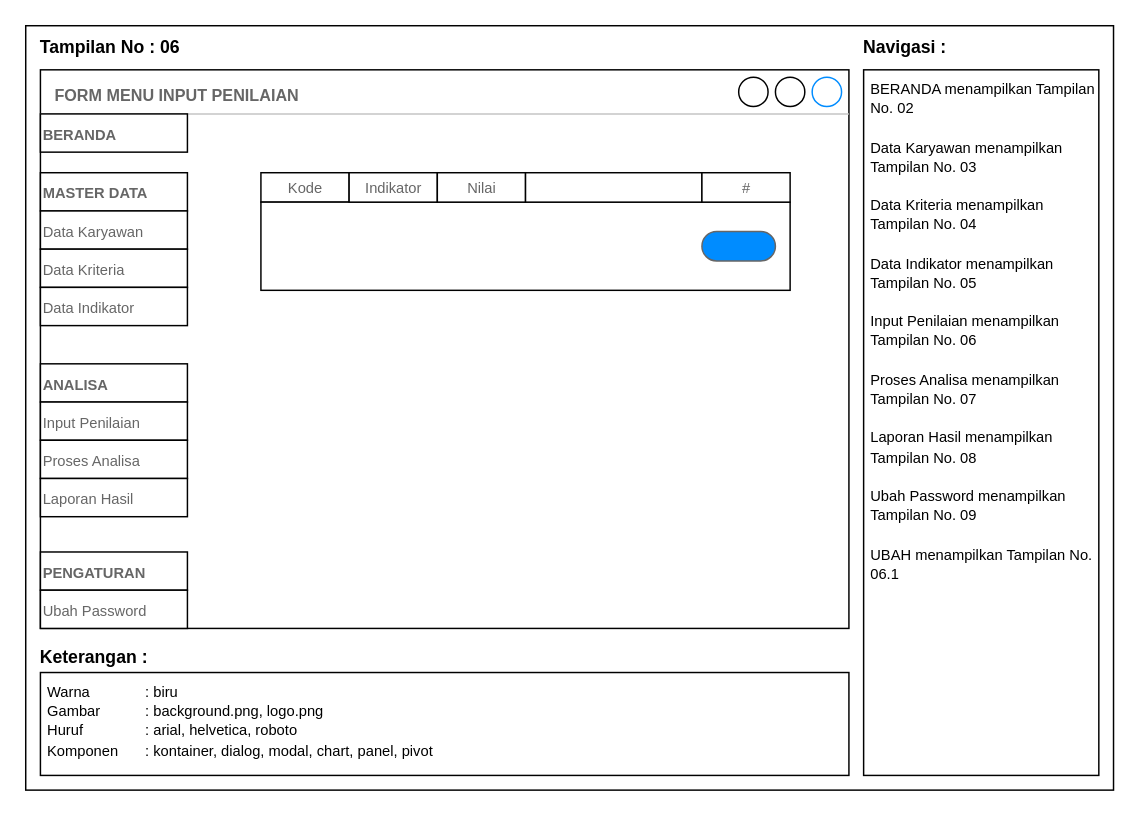
The diagram is 1139 pixels wide and 816 high, and some of its shapes have lost their labels. The shapes that lost their labels are listed below. From the top down, each one's box as (x1, y1, x2, y2) in pixels, then its label:
(524, 171, 702, 202): Kriteria
(700, 230, 775, 261): UBAH
